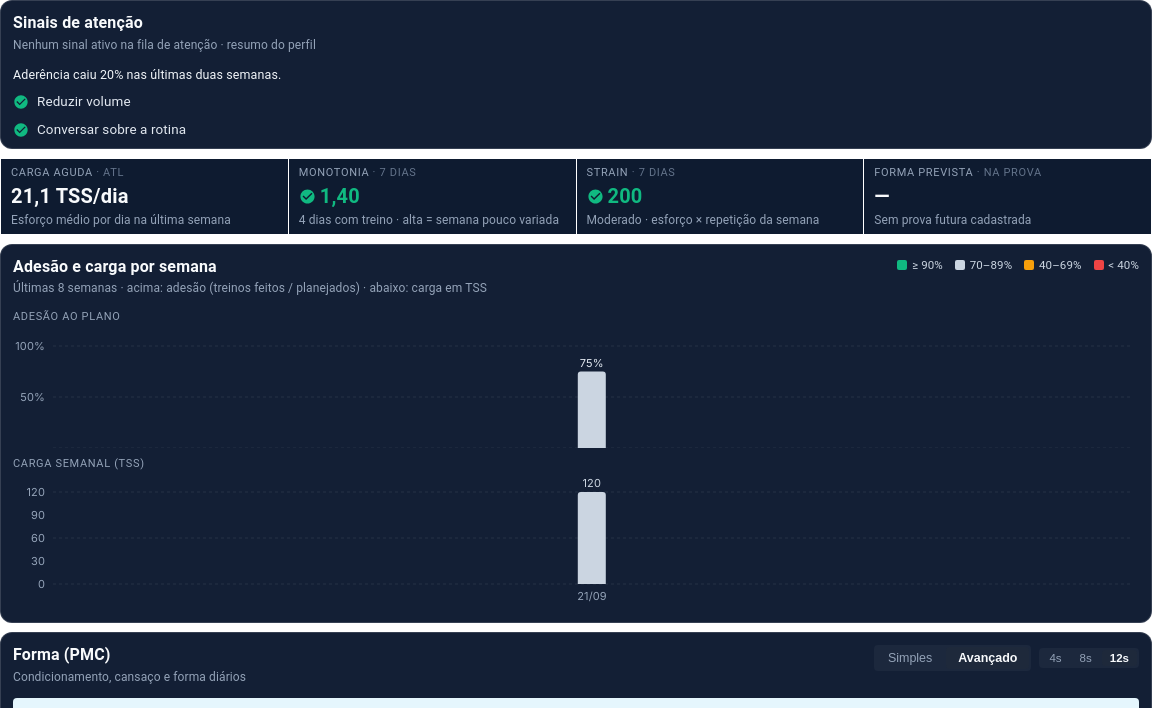
DiagnosisTabPanel › cards dos gráficos no padrão da Proposta (patch v2) › PMC: modo e período no cabeçalho do card; subtítulo acompanha o modo
Expected: the text "Condicionamento, cansaço e forma diários" is shown, left=13, top=668, right=246, bottom=686
Click the button "Simples" at (910, 658), box left=876, top=647, right=944, bottom=669
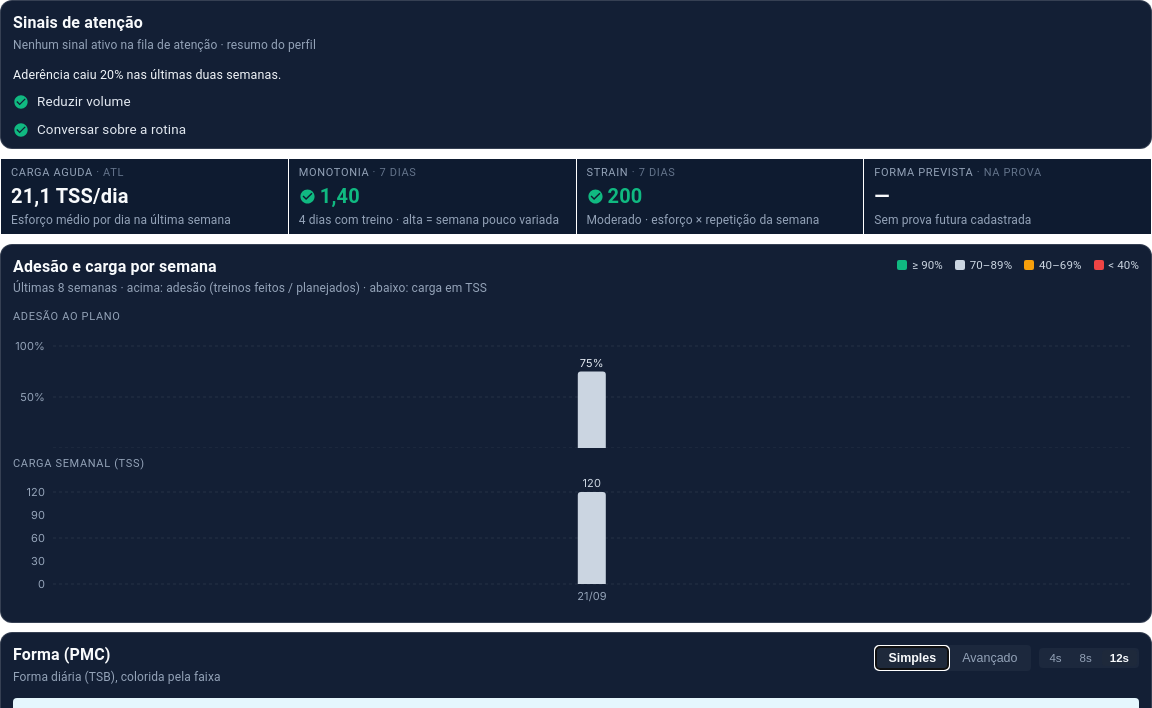
Expected: the buttons read "4s", "8s", "12s", in this order, left=1041, top=650, right=1070, bottom=666; left=1072, top=650, right=1100, bottom=666; left=1102, top=650, right=1137, bottom=666
Expected: the text "Forma diária (TSB), colorida pela faixa" is shown, left=13, top=668, right=221, bottom=686
